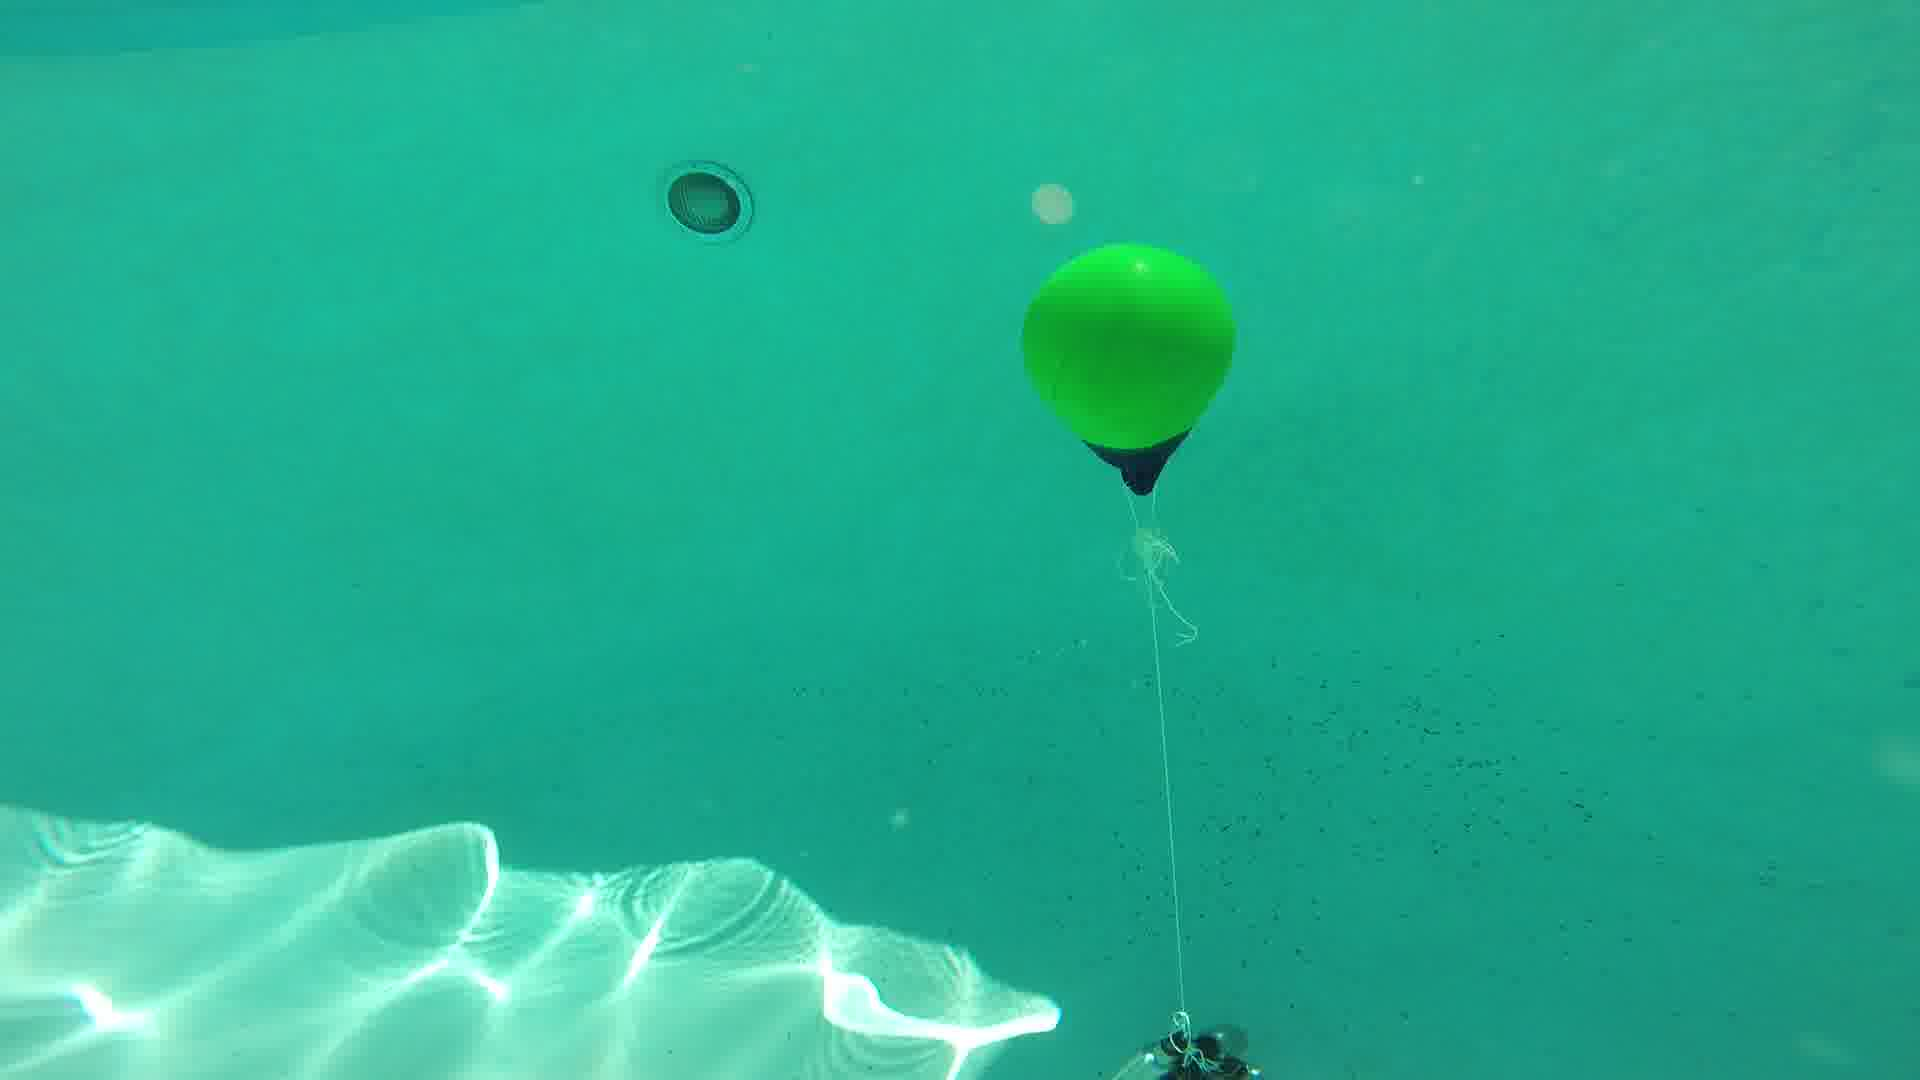yellow_buoy: (1021, 245, 1238, 500)
